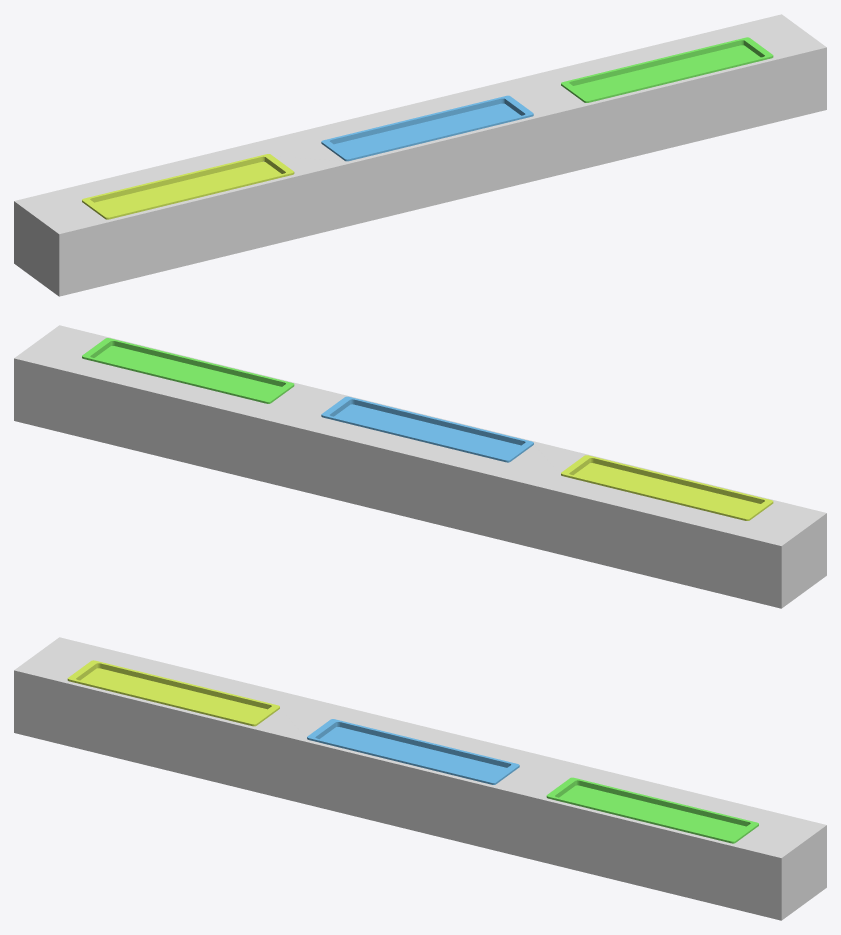
File: kitchen.dae
3 views of the same model, one above another, from view 1: azimuth 30°, elevation 25°; view 2: azimuth 150°, elevation 25°; view 3: azimuth 330°, elevation 25° (orthographic).
Parts seen in each view (by area): view 1: kit; view 2: kit; view 3: kit.
Boxes of the visible parts, bbox=[...] form: kit: bbox=[14, 14, 826, 296]; kit: bbox=[14, 325, 826, 608]; kit: bbox=[14, 637, 826, 920].
Bounding box in the file's own units: 4.6 × 0.476 × 0.3686.
